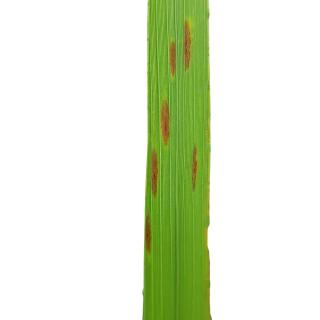Bercak-Cokelat-Sempit: (139, 95, 180, 198), (166, 17, 194, 78), (142, 207, 160, 256), (188, 143, 200, 196)
